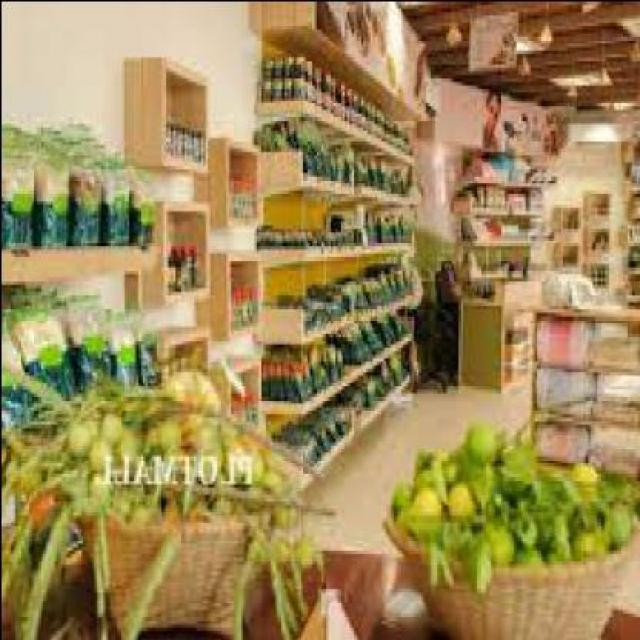BIODEGRADABLE: (2, 374, 326, 518), (2, 483, 344, 514), (2, 497, 76, 637), (2, 489, 72, 637), (124, 529, 178, 636), (162, 364, 222, 413), (270, 563, 302, 637), (466, 524, 499, 588), (232, 556, 257, 636), (95, 507, 114, 611), (464, 420, 504, 462), (540, 507, 571, 559), (533, 466, 573, 500), (443, 479, 477, 518), (429, 531, 454, 584), (568, 490, 606, 524), (494, 466, 535, 496), (492, 511, 517, 560), (596, 476, 638, 504), (413, 456, 447, 490), (568, 456, 602, 490), (513, 496, 538, 542), (414, 480, 446, 514), (603, 503, 628, 546), (33, 482, 56, 528), (502, 441, 536, 472), (65, 416, 92, 455), (418, 441, 450, 472), (575, 522, 608, 552), (399, 497, 427, 531), (245, 440, 267, 483), (88, 434, 114, 468), (466, 465, 497, 493), (160, 412, 182, 451), (195, 420, 222, 451), (118, 420, 139, 458), (228, 433, 243, 476), (390, 476, 413, 504), (445, 448, 466, 478), (144, 412, 159, 451), (251, 532, 274, 556), (104, 406, 121, 437), (515, 542, 540, 560), (297, 535, 312, 556), (278, 535, 294, 553)
